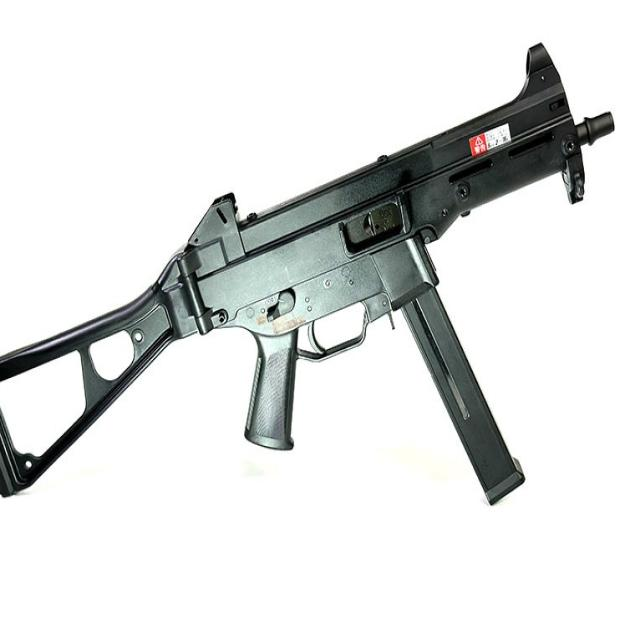Gun: (0, 30, 640, 556)
